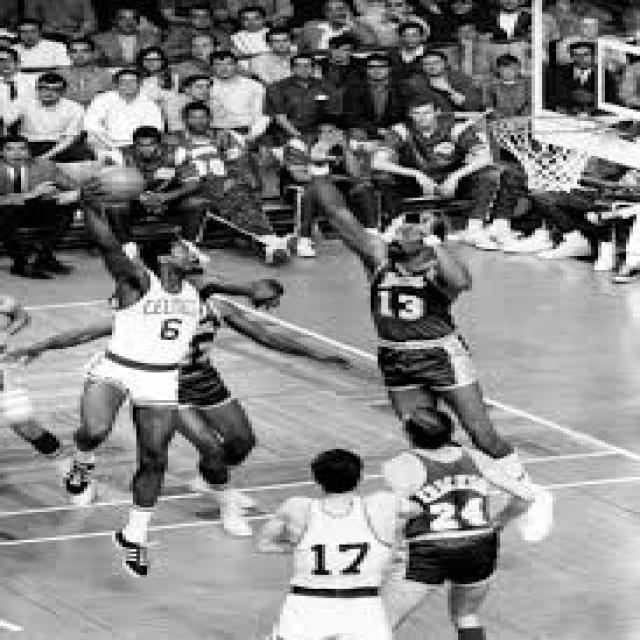rim: (94, 162, 144, 202)
